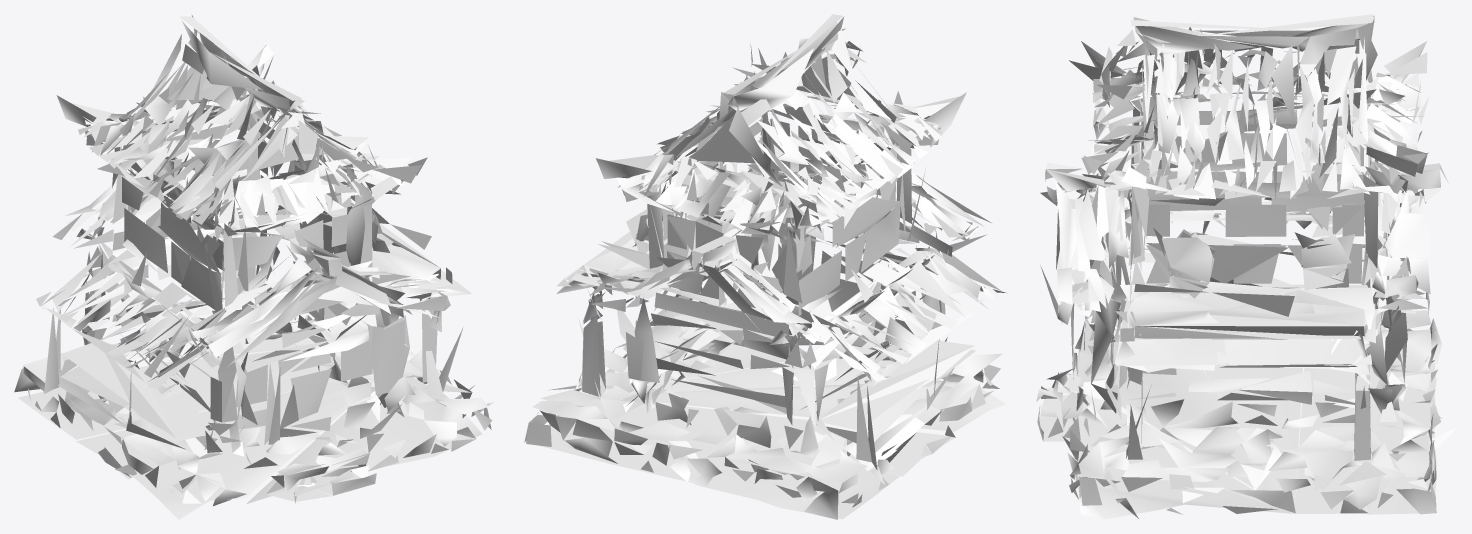
The model's file is house_shop_b_lod2.glb.
3 views of the same model, side by side, from view 1: azimuth 30°, elevation 25°; view 2: azimuth 150°, elevation 25°; view 3: azimuth 270°, elevation 25° (orthographic). The views are drawn at different scales.
Visible parts, largest first — view 1: house_shop_b; view 2: house_shop_b; view 3: house_shop_b.
Boxes of the visible parts, x1,y1,x2,y2 form: house_shop_b: (14, 14, 494, 519); house_shop_b: (524, 14, 1005, 519); house_shop_b: (1036, 14, 1457, 519).
Bounding box in the file's own units: 9.04 × 9.2 × 8.49.
Materials: 1 (1 with a texture image).
